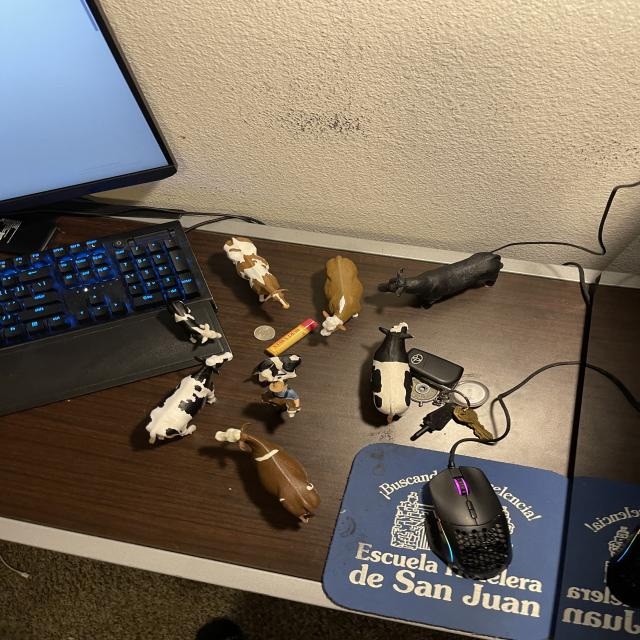cow: (213, 406, 333, 527), (135, 340, 250, 460), (374, 241, 509, 320), (218, 229, 297, 319), (369, 322, 413, 425), (158, 295, 224, 355), (320, 255, 366, 339), (251, 353, 304, 386), (271, 397, 301, 413)
person: (266, 386, 299, 400)
